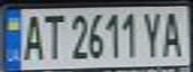1: (121, 9, 142, 58), (103, 10, 124, 58)
2: (66, 10, 90, 61)
6: (84, 10, 106, 60)
A: (18, 11, 45, 62), (160, 8, 187, 59)
T: (39, 11, 66, 61)
Y: (139, 8, 166, 59)
